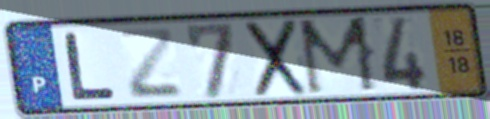4: (378, 13, 429, 93)
7: (181, 20, 238, 102)
L: (61, 30, 119, 103)
M: (295, 14, 382, 98)
X: (243, 16, 310, 101)
Z: (116, 27, 186, 101)
